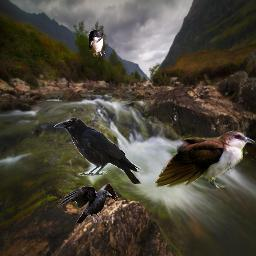Crow: (54, 117, 141, 184), (57, 183, 119, 223)
Cuckoo: (154, 92, 256, 192)
Swallow: (88, 29, 107, 57)
